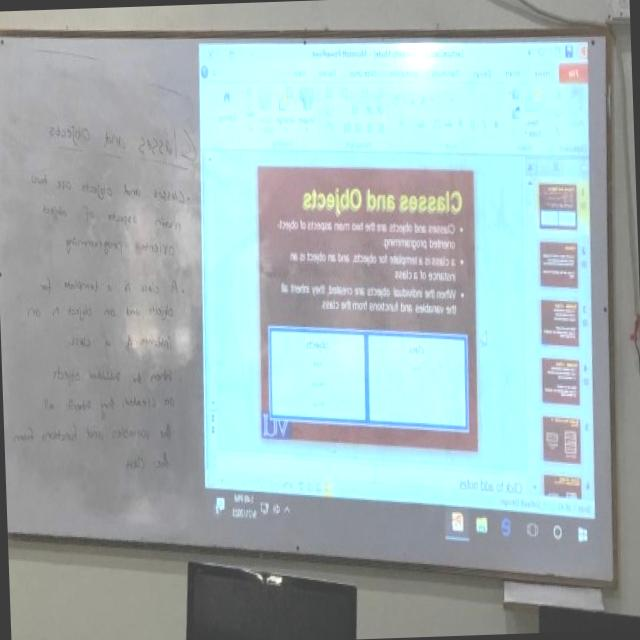Slide: (196, 37, 592, 550)
White-board: (0, 29, 616, 581)
